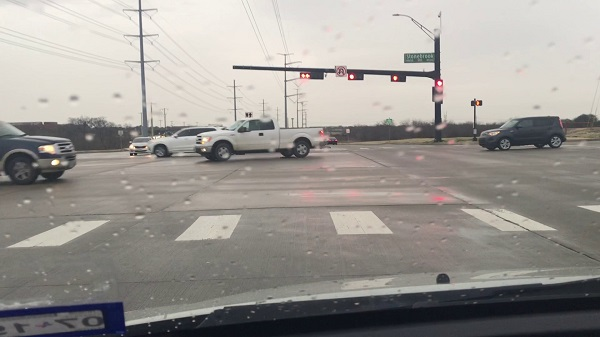car: (2, 119, 76, 182), (479, 116, 566, 151), (152, 128, 223, 158), (128, 136, 153, 154)
truck: (197, 120, 321, 160)
